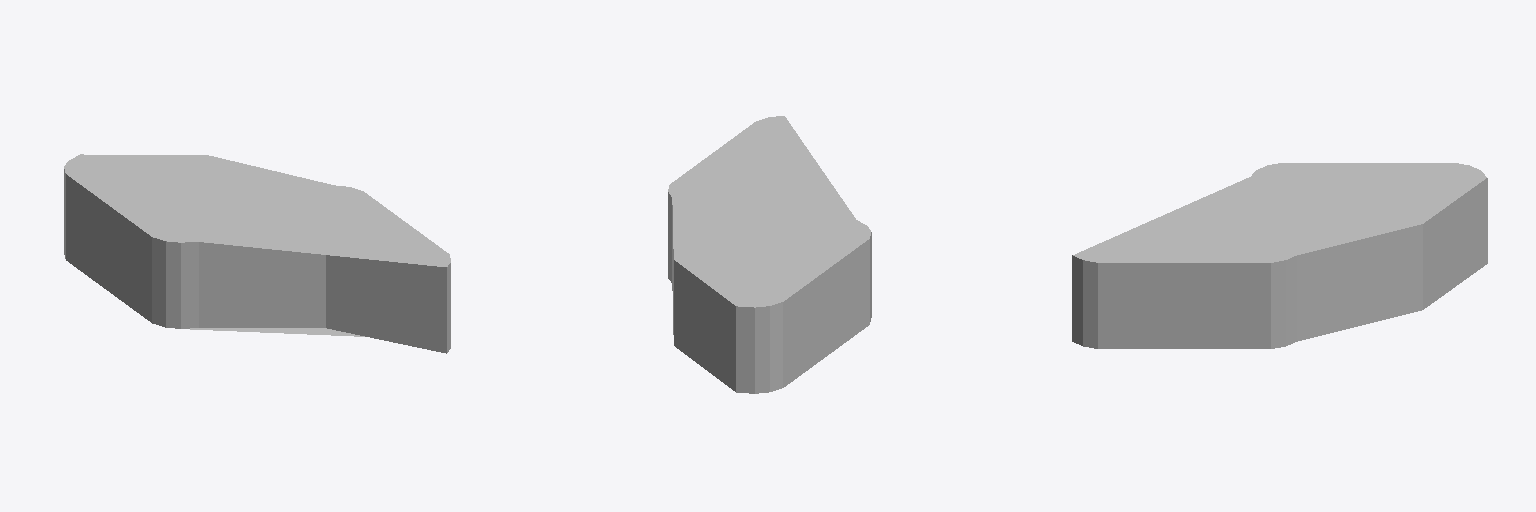
Rendered from entryAreaLeftWall.obj.
The picture shows the model from 3 angles: view 1: azimuth 30°, elevation 25°; view 2: azimuth 150°, elevation 25°; view 3: azimuth 270°, elevation 25°; orthographic projection.
Parts seen in each view (by area): view 1: entryAreaLeftWall.obj; view 2: entryAreaLeftWall.obj; view 3: entryAreaLeftWall.obj.
Part boxes in pixels (left/top/right/bottom): entryAreaLeftWall.obj: left=64, top=154, right=450, bottom=353; entryAreaLeftWall.obj: left=668, top=116, right=871, bottom=393; entryAreaLeftWall.obj: left=1072, top=163, right=1487, bottom=348.
Bounding box in the file's own units: 0.9971 × 0.4 × 1.74.